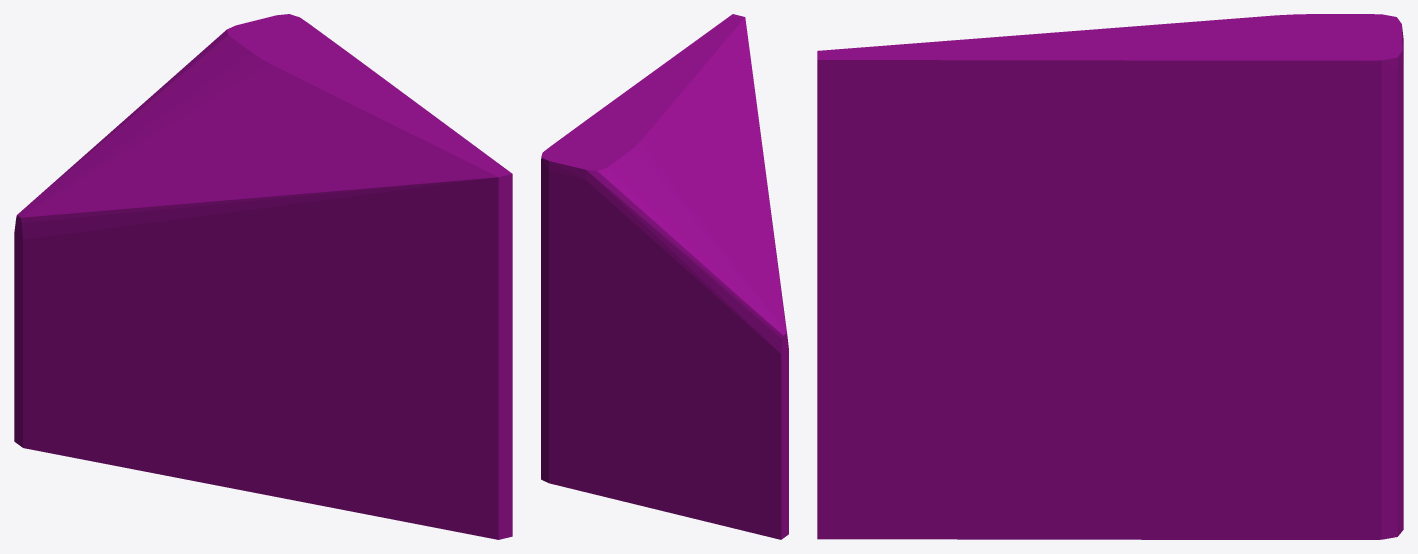
The model's file is left_palm_part_14.obj.
The picture shows the model from 3 angles, left to right: view 1: azimuth 30°, elevation 25°; view 2: azimuth 150°, elevation 25°; view 3: azimuth 270°, elevation 25°; orthographic projection. The views are drawn at different scales.
Size of the model in its own units: 10.6 by 13.24 by 14.67.
